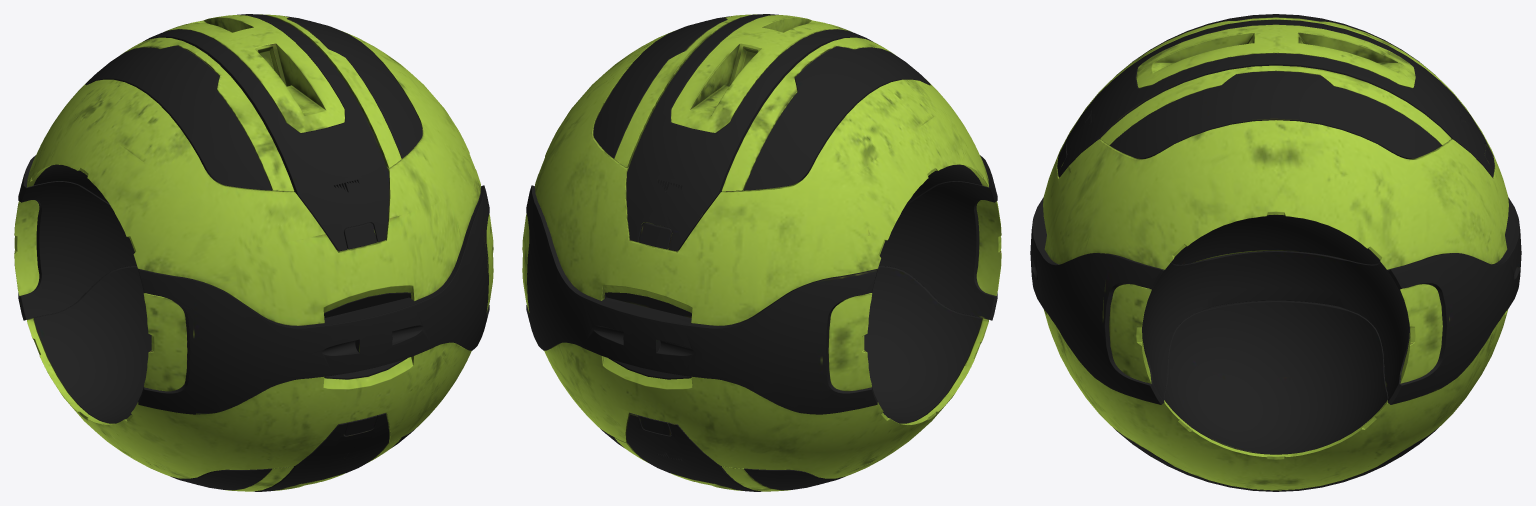
3 renders of one model, left to right at view 1: azimuth 30°, elevation 25°; view 2: azimuth 150°, elevation 25°; view 3: azimuth 270°, elevation 25°, orthographic.
Visible parts, largest first — view 1: Sci-Fi Sphere; view 2: Sci-Fi Sphere; view 3: Sci-Fi Sphere.
Boxes of the visible parts, box(x1,y1,x2,y2) form: Sci-Fi Sphere: box(14, 14, 493, 491); Sci-Fi Sphere: box(522, 14, 1001, 491); Sci-Fi Sphere: box(1030, 14, 1521, 491).
Bounding box in the file's own units: 137 × 164 × 168.
Materials: 1 (1 with a texture image).
